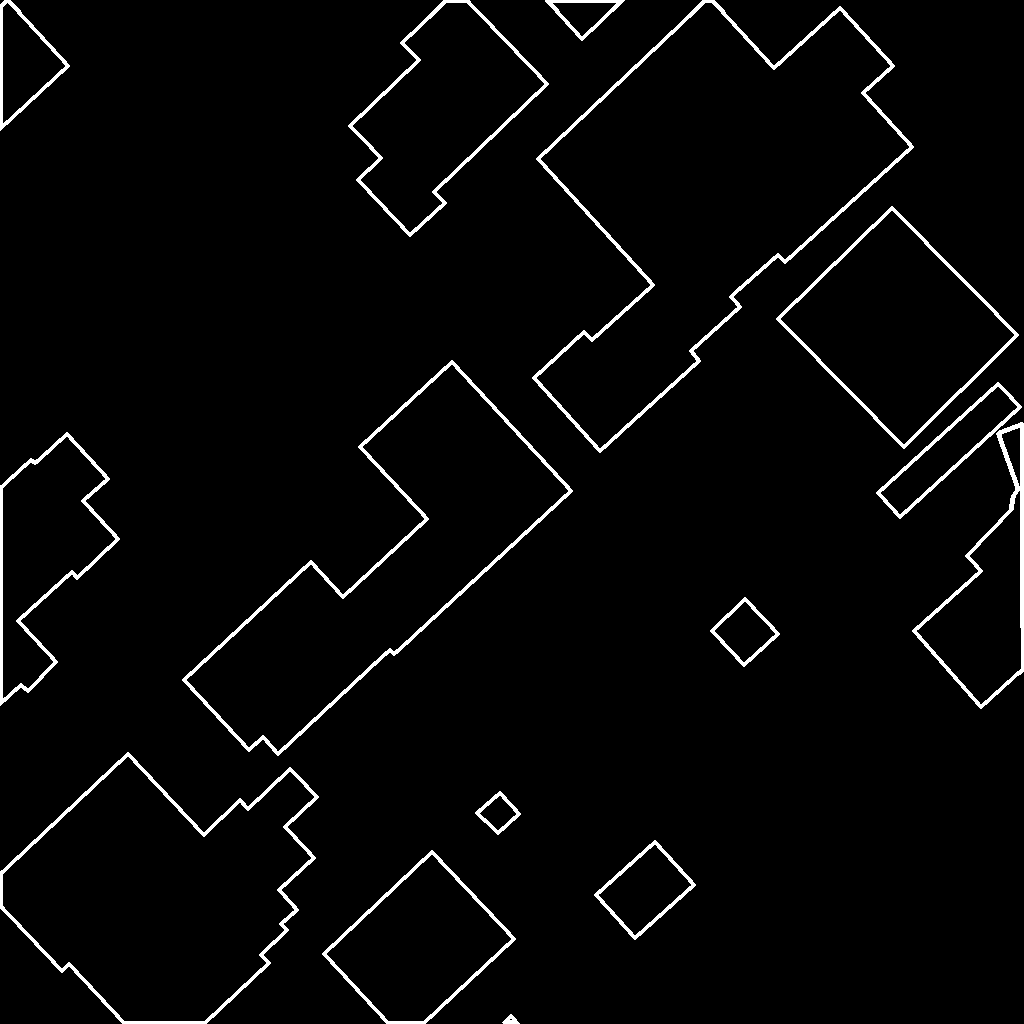building: (534, 0, 913, 452), (184, 362, 572, 755), (0, 754, 318, 1024), (778, 208, 1018, 448), (350, 0, 548, 236), (324, 852, 515, 1024), (0, 434, 119, 705), (914, 424, 1024, 708), (878, 384, 1021, 518), (596, 842, 695, 939), (0, 0, 69, 130), (712, 599, 779, 666), (546, 0, 624, 40), (477, 793, 520, 834), (504, 1016, 519, 1024)
